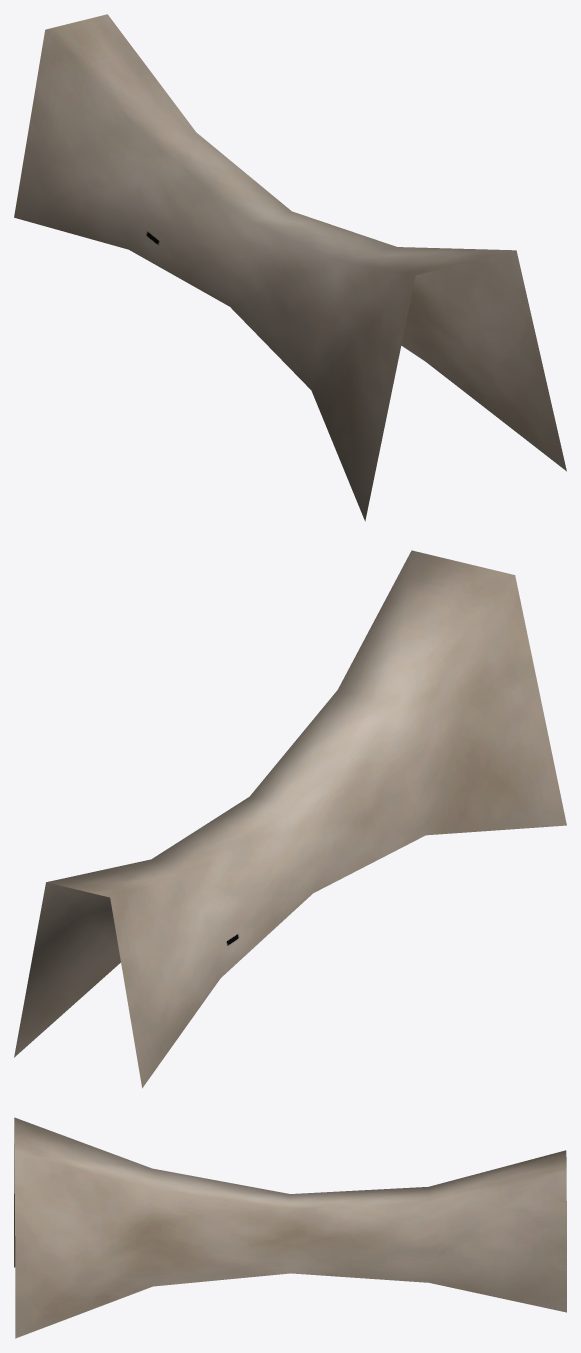
Rendered from web_05.fbx.
The picture shows the model from 3 angles, top to bottom: view 1: azimuth 30°, elevation 25°; view 2: azimuth 150°, elevation 25°; view 3: azimuth 270°, elevation 25°; orthographic projection. The views are drawn at different scales.
Parts seen in each view (by area): view 1: mine_tileset/mine_web01_mat; view 2: mine_tileset/mine_web01_mat; view 3: mine_tileset/mine_web01_mat.
Boxes of the visible parts, x1,y1,x2,y2 form: mine_tileset/mine_web01_mat: (14, 14, 566, 521); mine_tileset/mine_web01_mat: (14, 550, 566, 1088); mine_tileset/mine_web01_mat: (14, 1117, 566, 1338).
Size of the model in its own units: 2.9 by 3.2 by 9.55.
